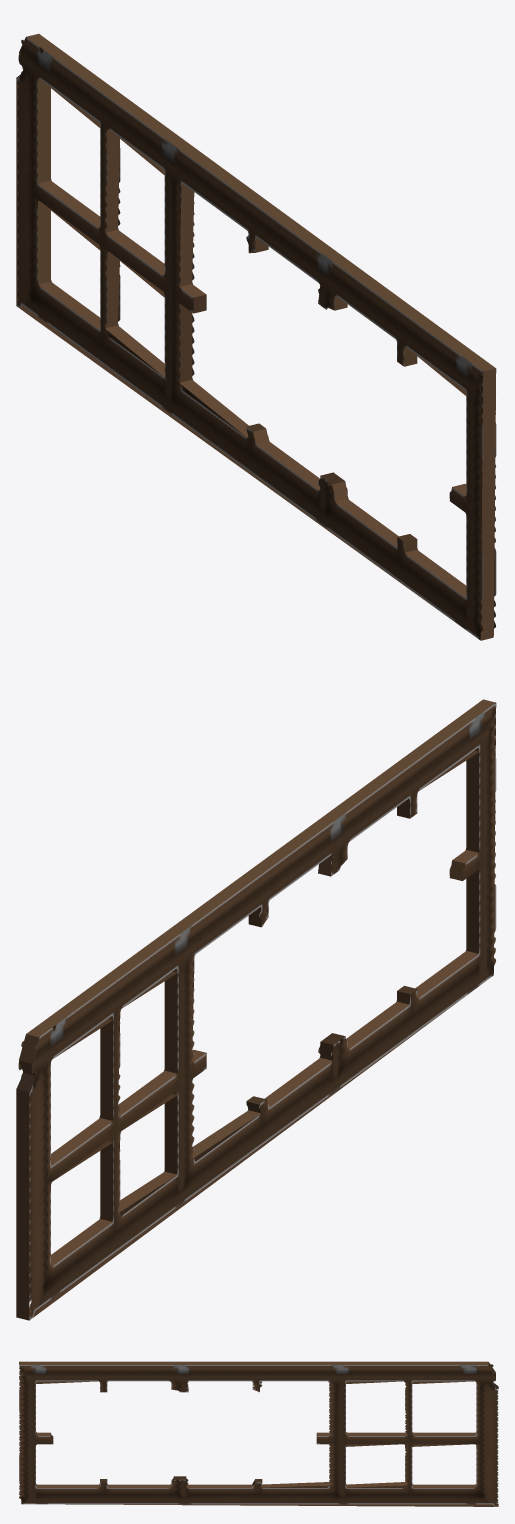
Rendered from pz_native_fixtures_windows_wood_108_frame.obj.
The picture shows the model from 3 angles, top to bottom: view 1: azimuth 30°, elevation 25°; view 2: azimuth 150°, elevation 25°; view 3: azimuth 270°, elevation 25°; orthographic projection. The views are drawn at different scales.
Visible parts, largest first — view 1: pz_native_fixtures_windows_wood_108_frame; view 2: pz_native_fixtures_windows_wood_108_frame; view 3: pz_native_fixtures_windows_wood_108_frame.
Part boxes in pixels (bbox=[...]): pz_native_fixtures_windows_wood_108_frame: bbox=[16, 33, 496, 640]; pz_native_fixtures_windows_wood_108_frame: bbox=[16, 699, 496, 1320]; pz_native_fixtures_windows_wood_108_frame: bbox=[19, 1361, 498, 1506].
Bounding box in the file's own units: 0.04 × 0.8594 × 2.53.
1 material, 1 textured.
